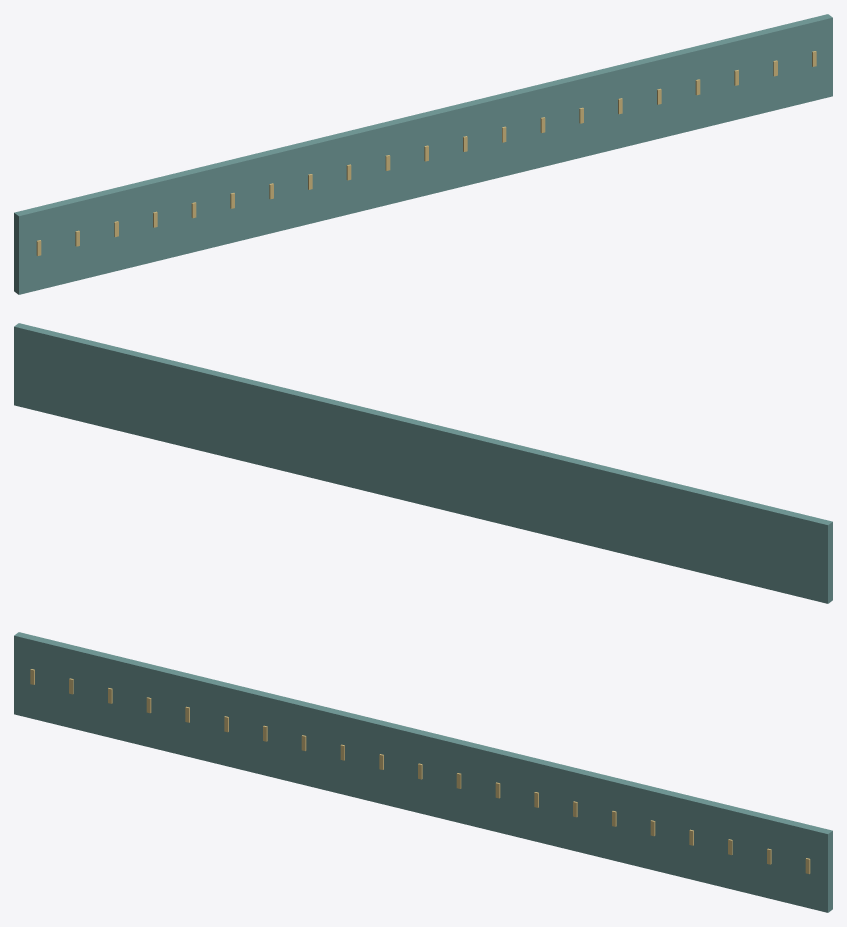
File: RushSideShutter.glb
3 renders of one model, top to bottom at view 1: azimuth 30°, elevation 25°; view 2: azimuth 150°, elevation 25°; view 3: azimuth 330°, elevation 25°, orthographic.
Visible parts, largest first — view 1: RushSideShutter; view 2: RushSideShutter; view 3: RushSideShutter.
Part boxes in pixels (<box>): RushSideShutter: <box>14,14,832,294</box>; RushSideShutter: <box>14,323,832,603</box>; RushSideShutter: <box>14,632,832,912</box>.
Size of the model in its own units: 21 by 1.94 by 0.271.
